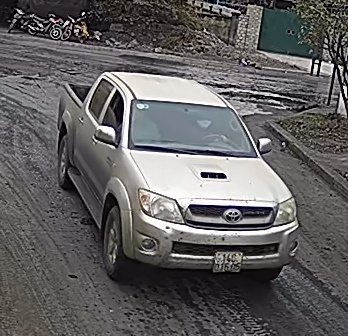vehicle plate: (210, 246, 244, 276)
